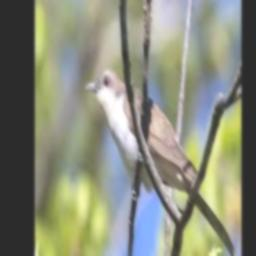Cuckoo: (86, 68, 238, 256)
